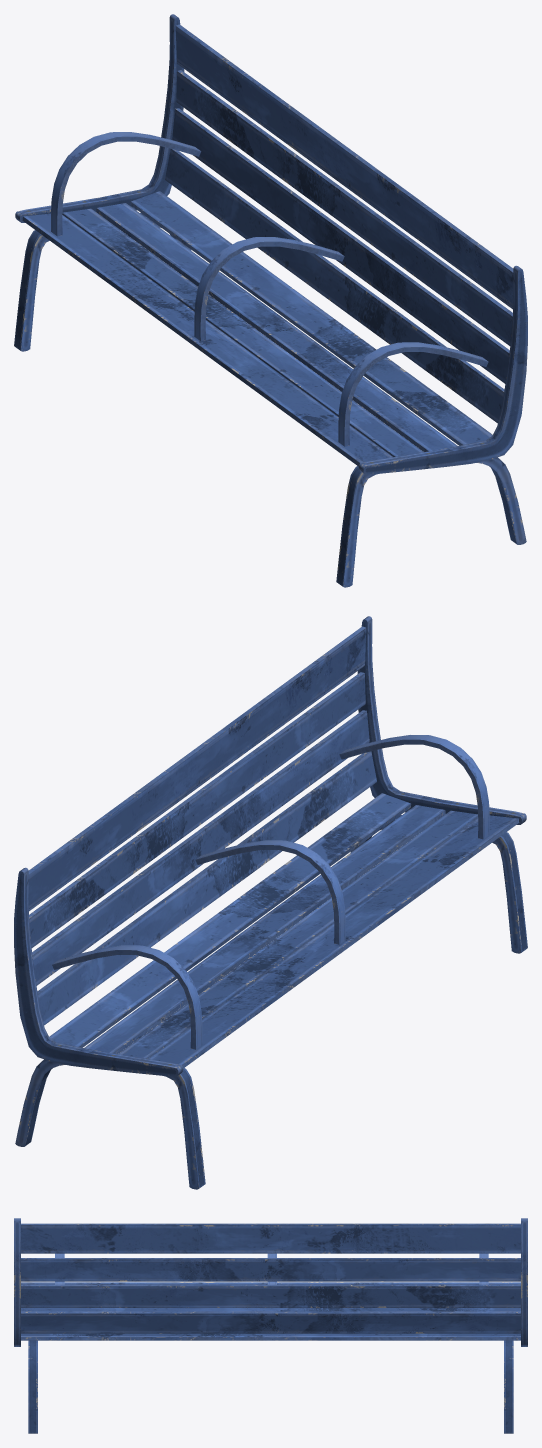
File: MB_Bench_01.fbx
3 renders of one model, top to bottom at view 1: azimuth 30°, elevation 25°; view 2: azimuth 150°, elevation 25°; view 3: azimuth 270°, elevation 25°, orthographic. The views are drawn at different scales.
Visible parts, largest first — view 1: MB_Bench_01_LOD0; view 2: MB_Bench_01_LOD0; view 3: MB_Bench_01_LOD0.
Part boxes in pixels (x1=…): MB_Bench_01_LOD0: x1=14, y1=14, x2=527, y2=587; MB_Bench_01_LOD0: x1=14, y1=616, x2=527, y2=1189; MB_Bench_01_LOD0: x1=14, y1=1218, x2=527, y2=1433.
Size of what is drawn, in the model's own units: 61.13 by 90.79 by 201.
